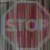Stop: (5, 2, 49, 49)
